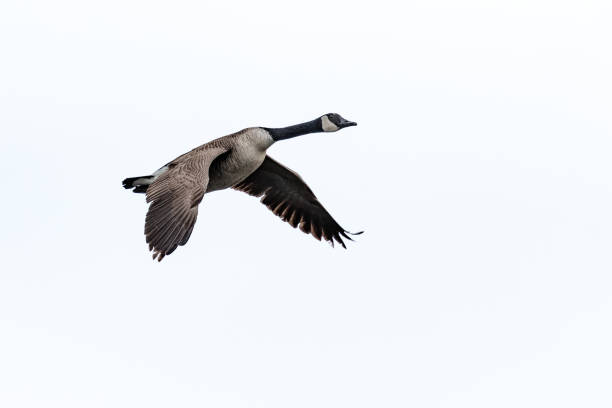goose: (116, 111, 361, 265)
